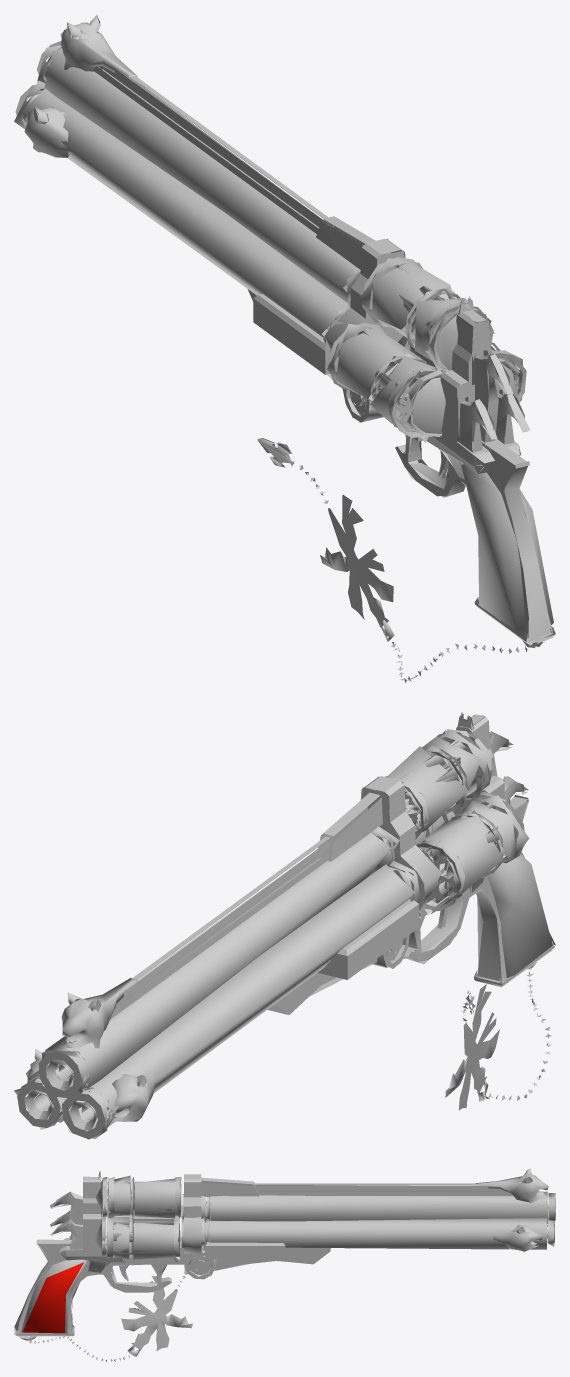
The model's file is Cerberus_LP.gltf.
3 renders of one model, top to bottom at view 1: azimuth 30°, elevation 25°; view 2: azimuth 150°, elevation 25°; view 3: azimuth 270°, elevation 25°, orthographic. The views are drawn at different scales.
Visible parts, largest first — view 1: Cerberus00_Fixed.001; view 2: Cerberus00_Fixed.001; view 3: Cerberus00_Fixed.001.
Boxes of the visible parts, x1,y1,x2,y2 form: Cerberus00_Fixed.001: (14, 15, 555, 682); Cerberus00_Fixed.001: (14, 712, 555, 1139); Cerberus00_Fixed.001: (14, 1168, 555, 1361).
Bounding box in the file's own units: 0.3322 × 0.66 × 1.56.
